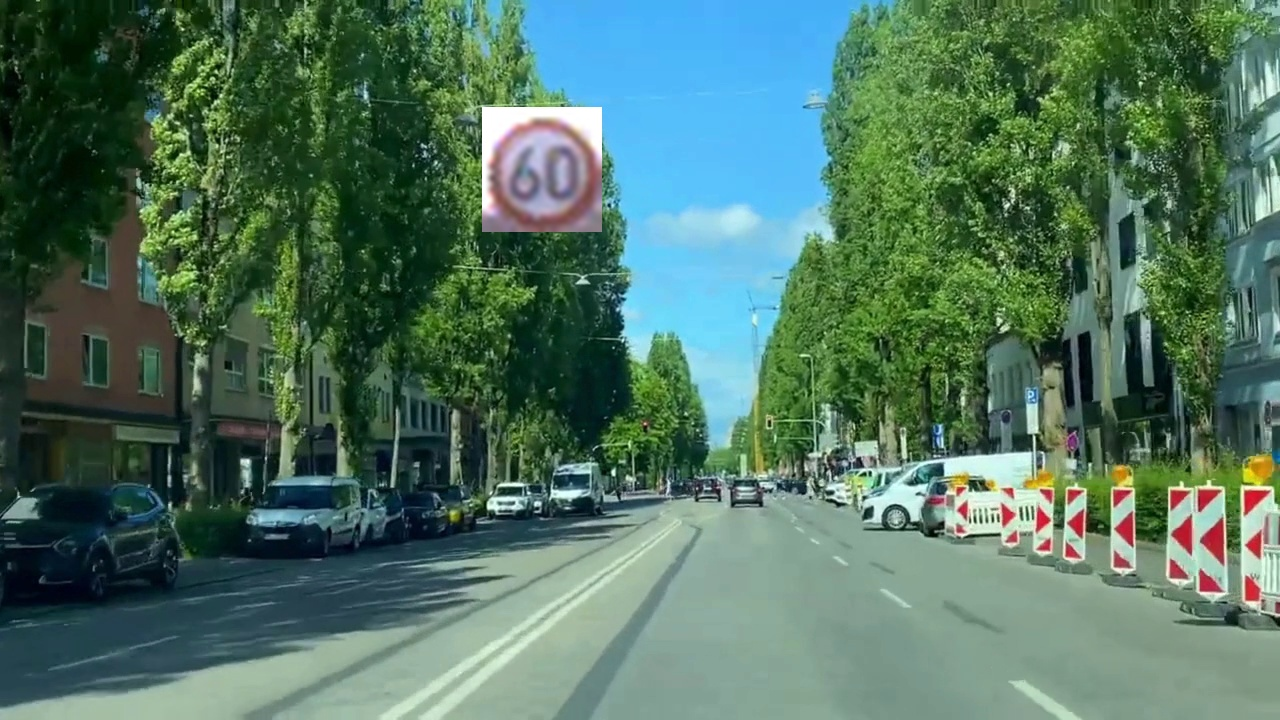Speed 60: (482, 107, 602, 232)
